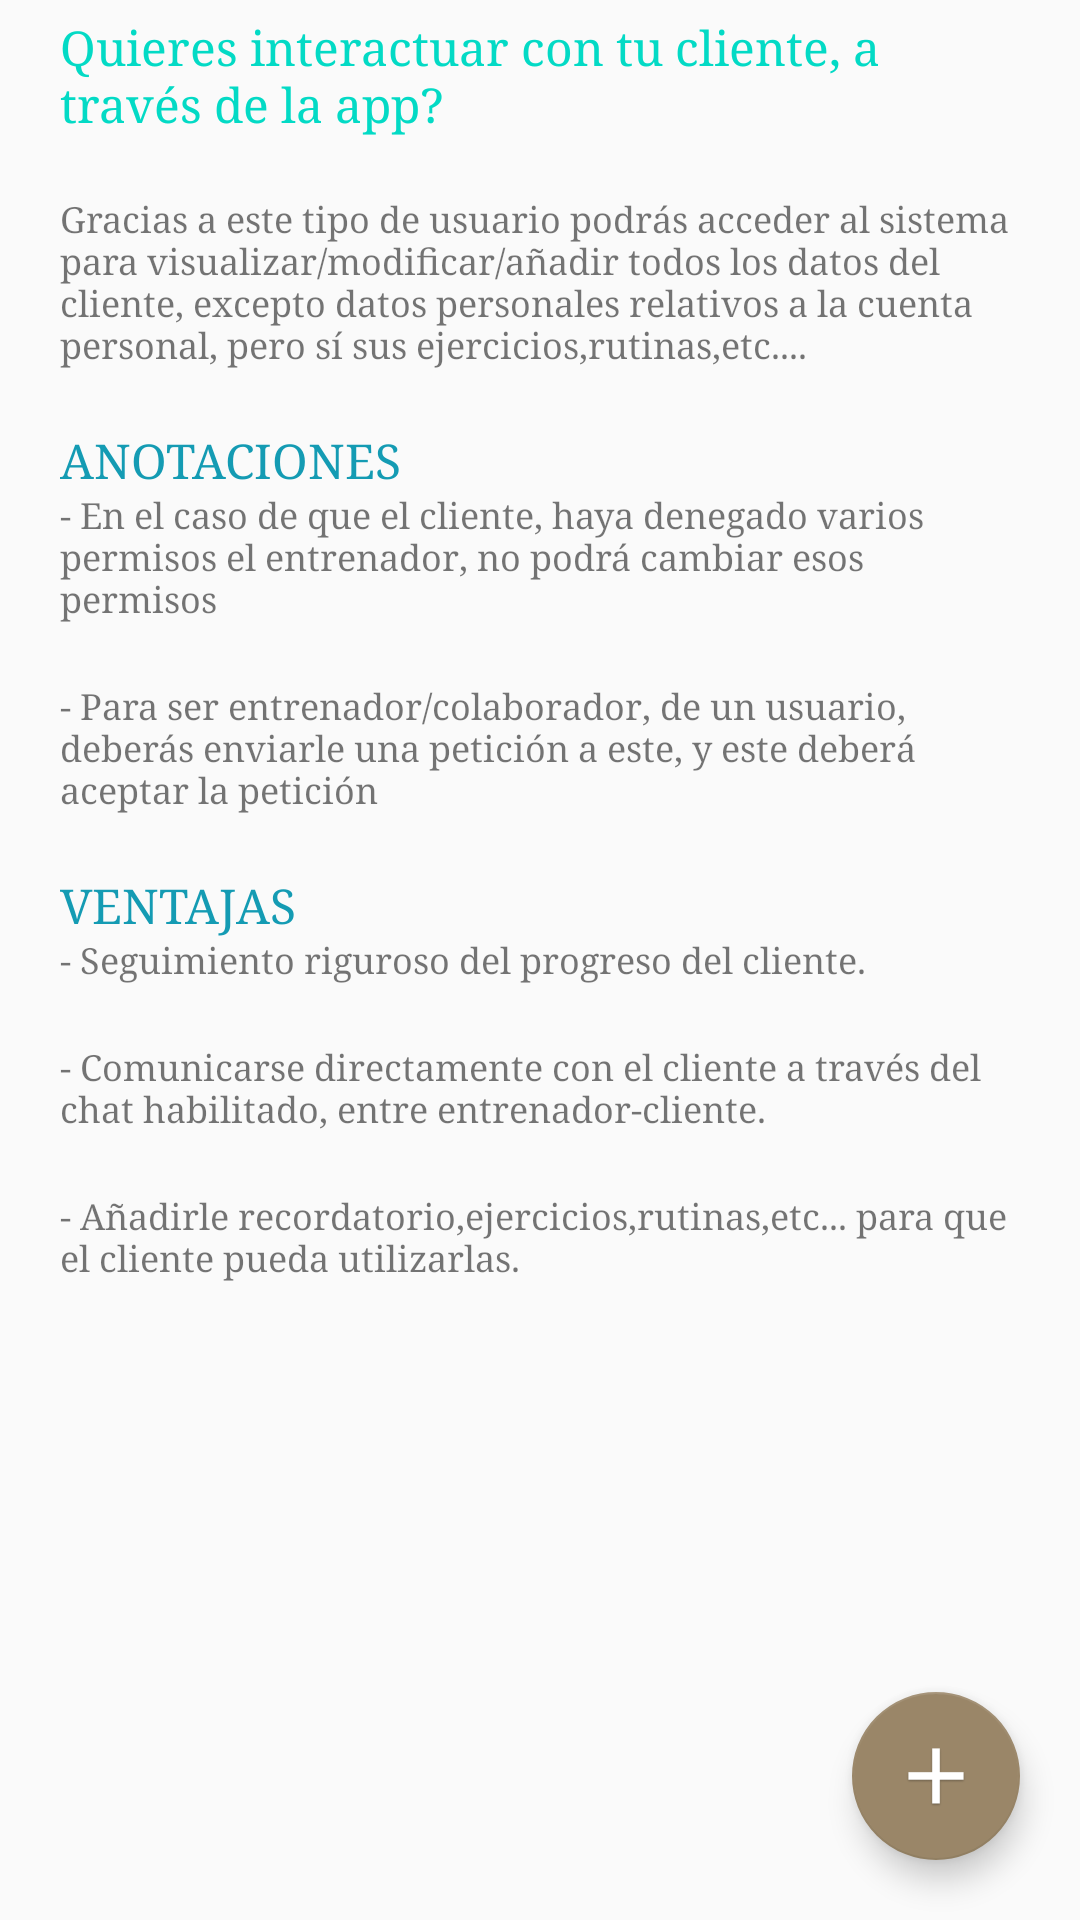

Icons on this 1080 × 1920 Android screen, each with its box as bbox=(x1, y1, x2, y2):
Añadir Producto: bbox=(852, 1692, 1020, 1860)
